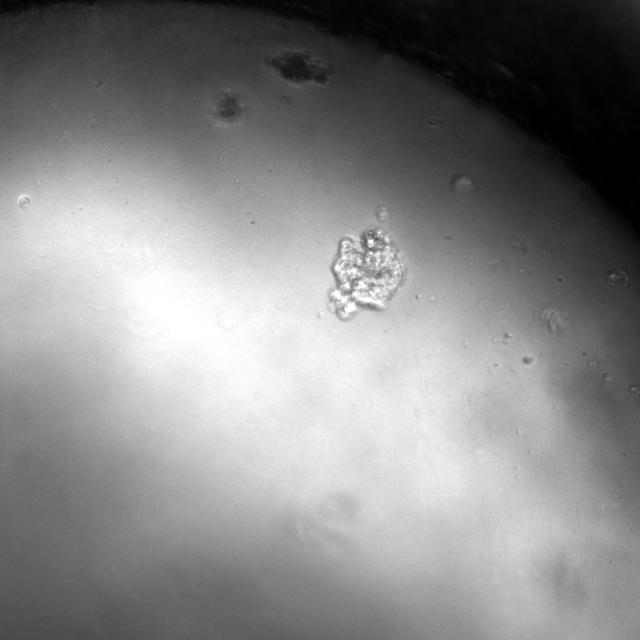organoid: (329, 228, 405, 319), (266, 50, 332, 85), (206, 88, 247, 126)
